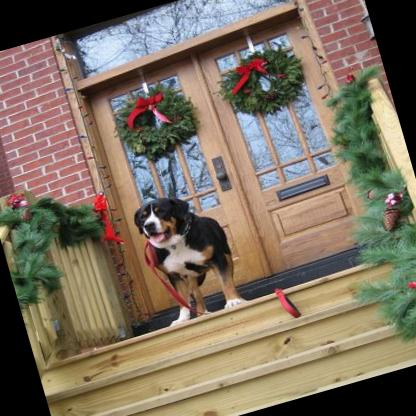Greater_Swiss_Mountain_dog: (127, 182, 246, 326)
